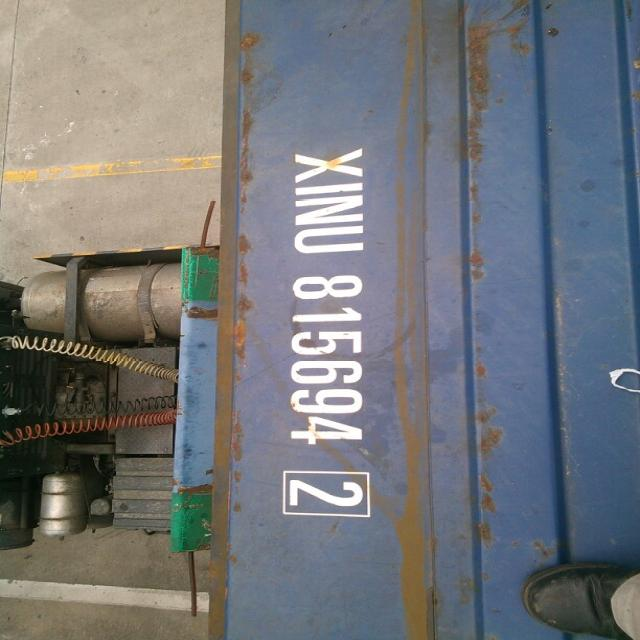rust: (472, 404, 507, 551), (235, 31, 263, 194), (465, 24, 491, 174), (232, 232, 255, 396), (228, 409, 249, 490), (465, 248, 490, 289), (470, 361, 493, 384)
